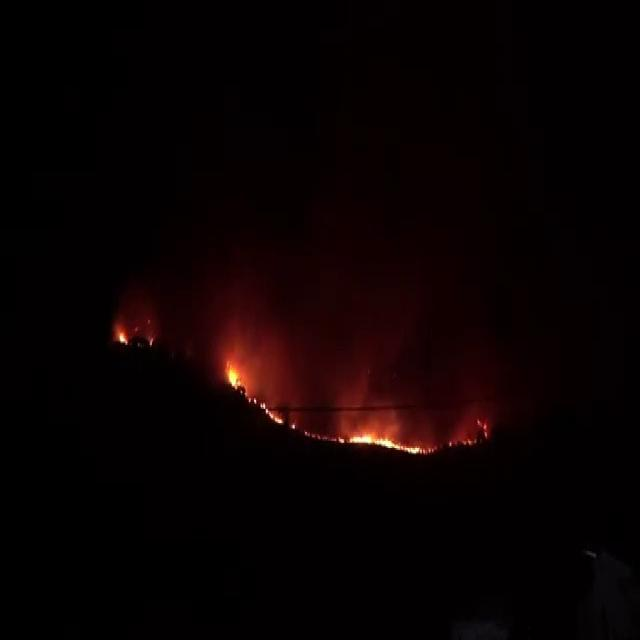Fire: (348, 434, 422, 457), (259, 394, 283, 428), (223, 362, 241, 390), (115, 325, 128, 345)
Smoke: (201, 213, 497, 462), (110, 292, 174, 352)
